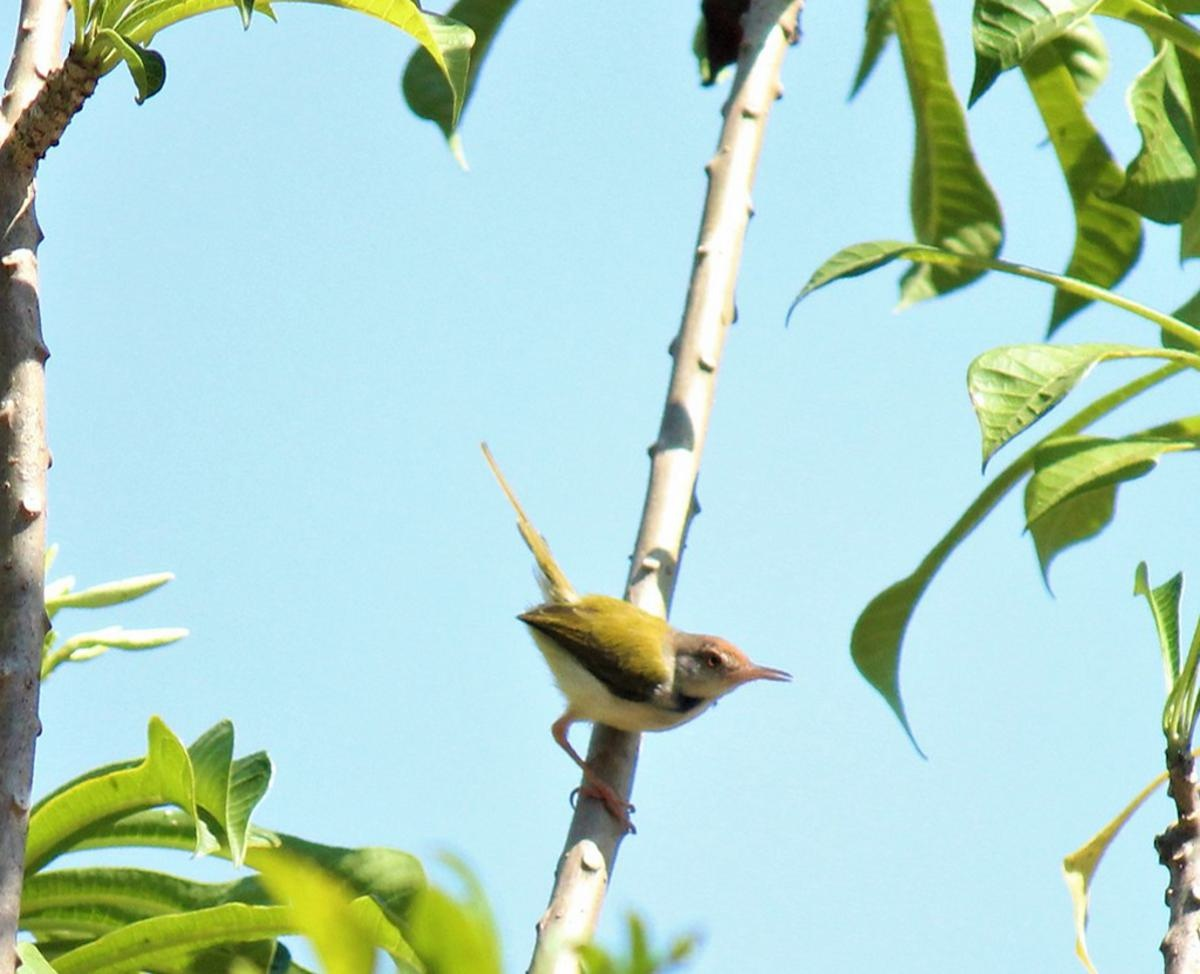tailorbird: (439, 362, 795, 787)
